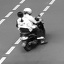mobil: (12, 8, 55, 52)
